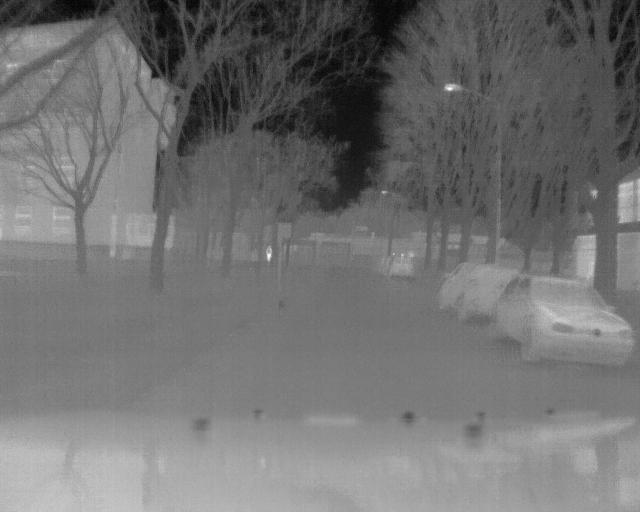car: (493, 275, 639, 375), (435, 261, 534, 330)
